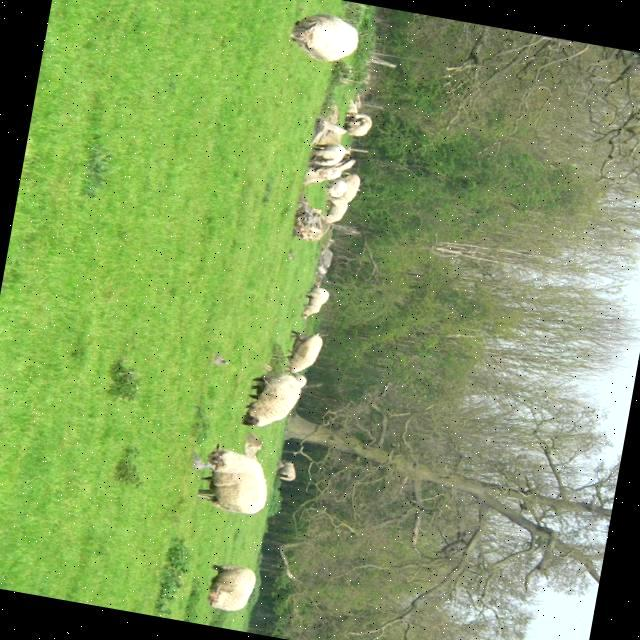sheep: (242, 372, 304, 425), (290, 12, 357, 60)
